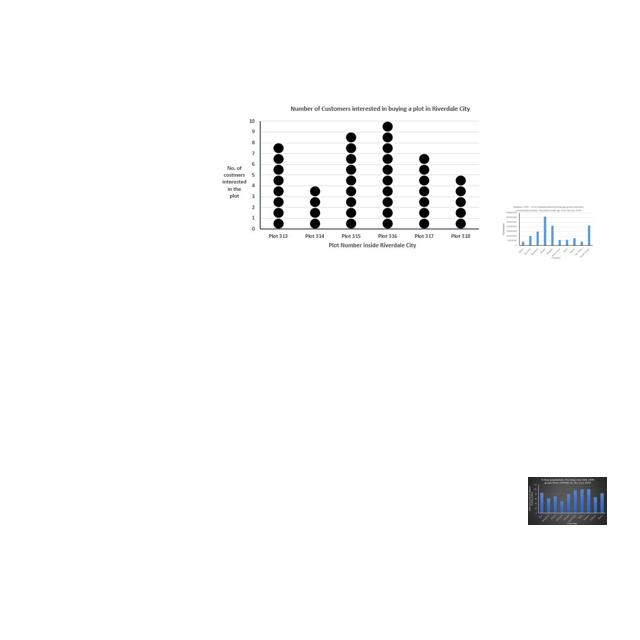Graph: (220, 104, 480, 252), (502, 205, 594, 260), (528, 477, 607, 525)
